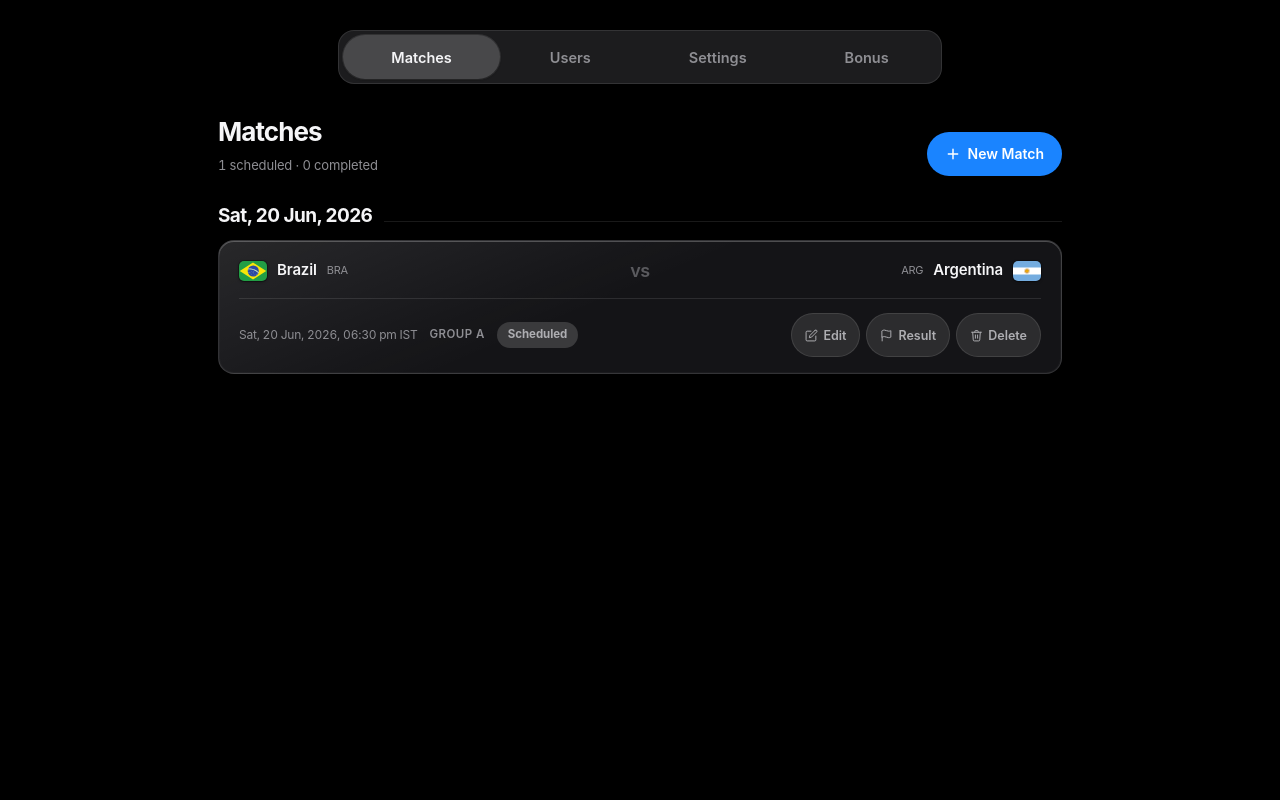
Test case: Admin screen — matches tab › hides penalty-winner picker for a group match (not knockout)
The image size is (1280, 800).
What coordinates should you click on to do the following:
click the button with aria-label "Set result for Brazil vs Argentina"
I would click on:
 (908, 335)
Its box is left=866, top=313, right=950, bottom=357.
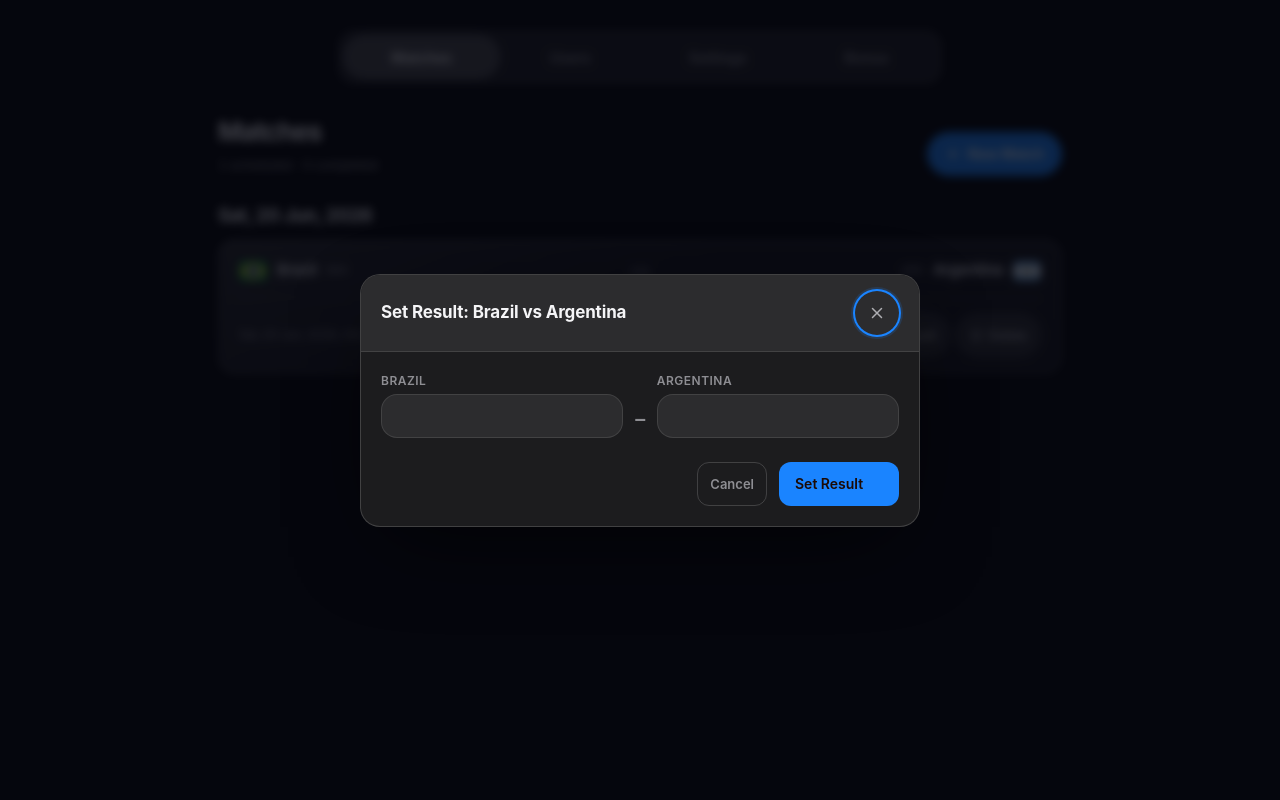
Check: the dialog "Set Result: Brazil vs Argentina" is shown, box left=360, top=274, right=920, bottom=526
